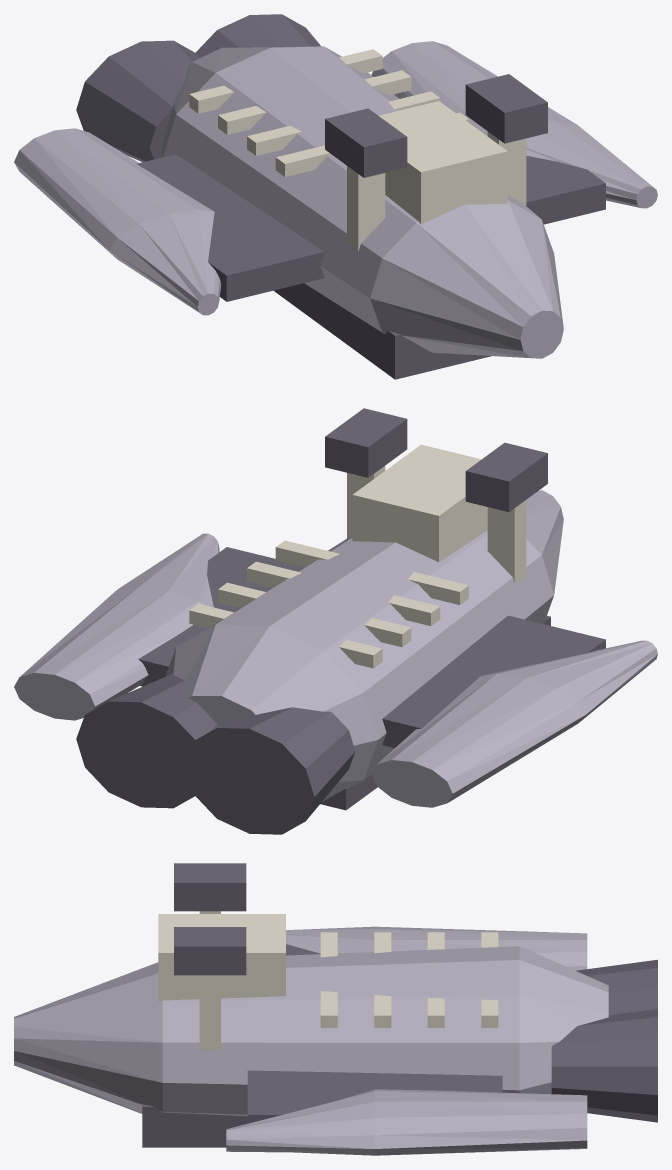
The picture shows the model from 3 angles, top to bottom: view 1: azimuth 30°, elevation 25°; view 2: azimuth 150°, elevation 25°; view 3: azimuth 270°, elevation 25°; orthographic projection. The views are drawn at different scales.
Size of the model in its own units: 4.33 by 2.03 by 5.46.
